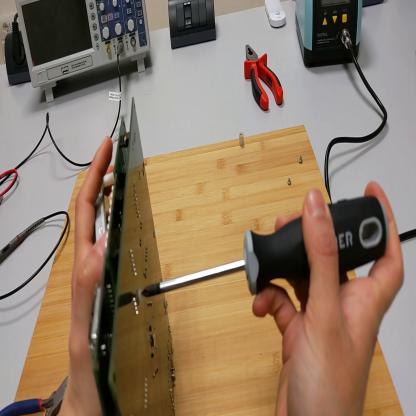hand: (253, 181, 405, 415), (69, 134, 118, 389)
low voltage board: (90, 97, 176, 415)
oscilloscope: (17, 2, 152, 103)
oscilloscope probe tip: (2, 216, 46, 265)
pliers: (243, 45, 287, 113), (1, 375, 69, 415)
screwdriver-: (141, 196, 390, 297)
socket: (6, 33, 32, 86), (364, 1, 384, 9)
welder station: (296, 3, 364, 68)
working area: (15, 119, 406, 416)
